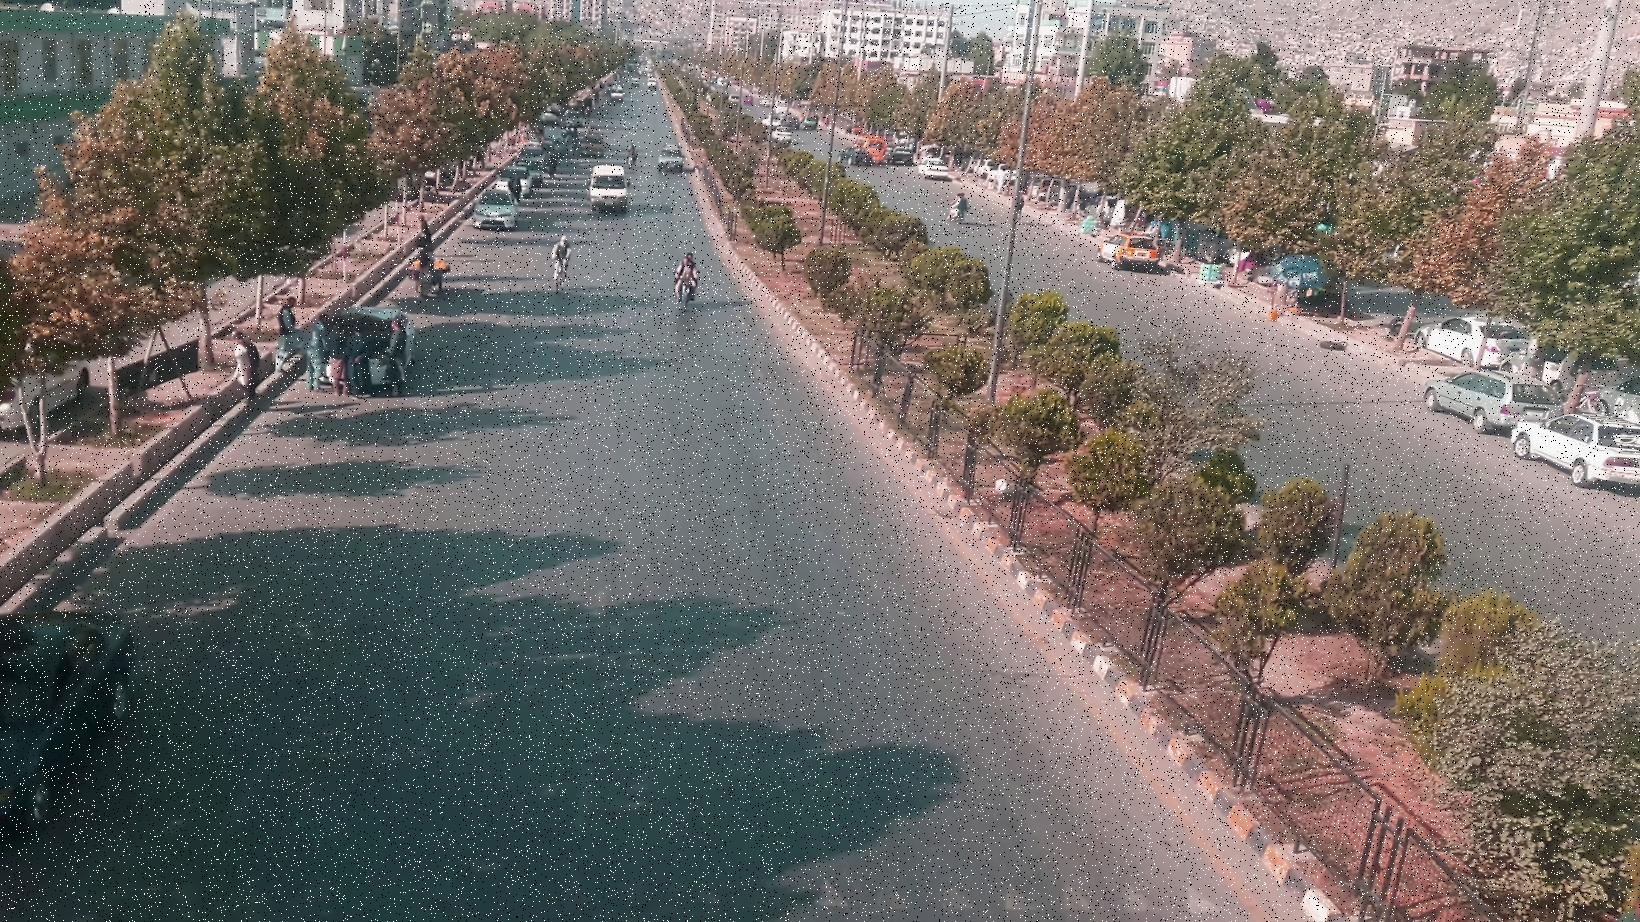bike: (667, 251, 702, 306)
car: (1509, 410, 1640, 493), (1430, 372, 1521, 430), (1098, 229, 1161, 269), (589, 163, 634, 214), (472, 200, 515, 231)
